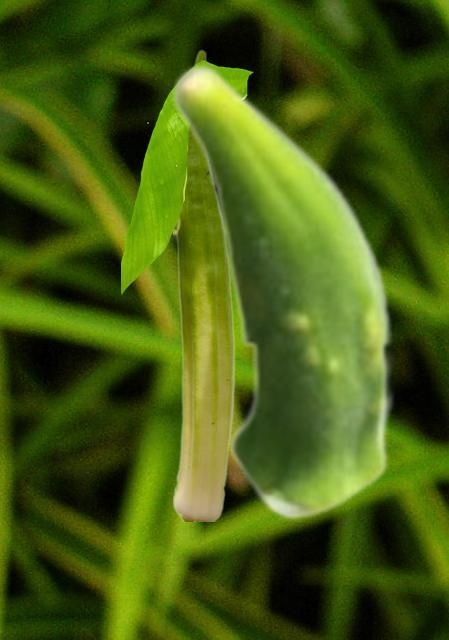okra: (169, 62, 395, 520), (173, 49, 234, 520)
